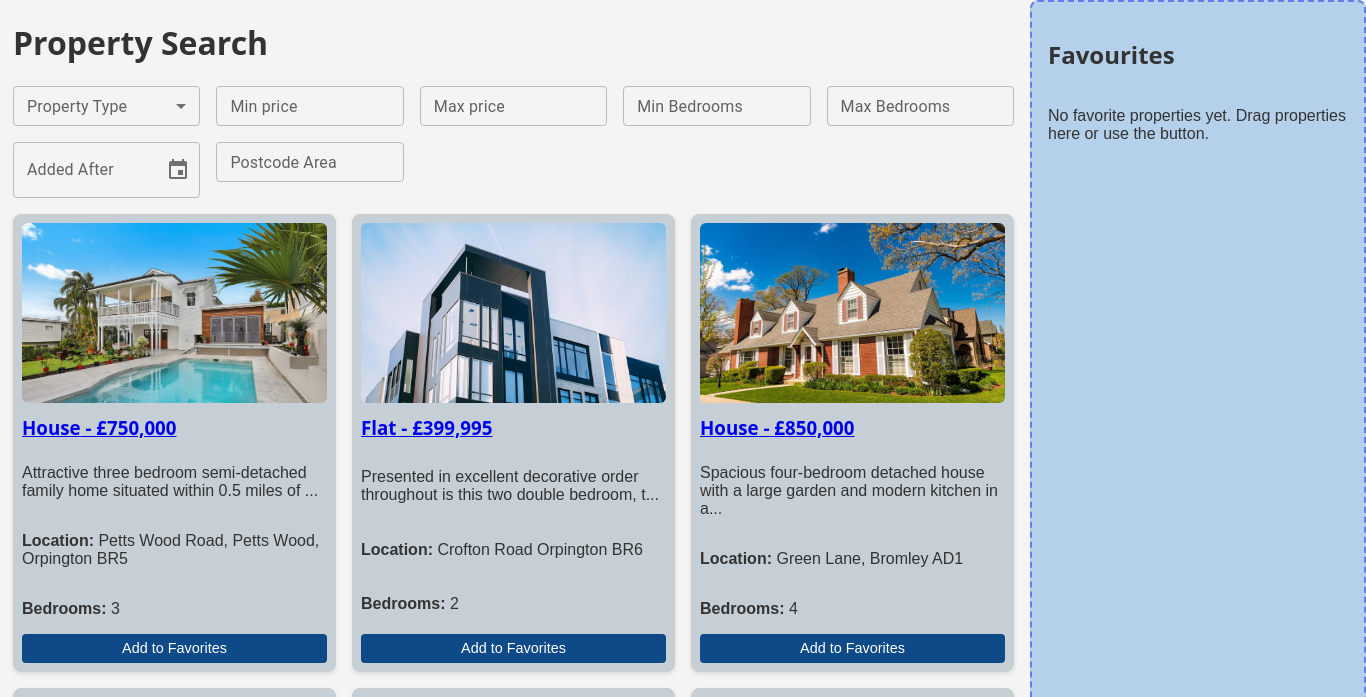
Scenario: removes property from favourites by button click
Step 1. Click the button "Add to Favorites" below "750,000" → (174, 648), box [22,634,327,663]
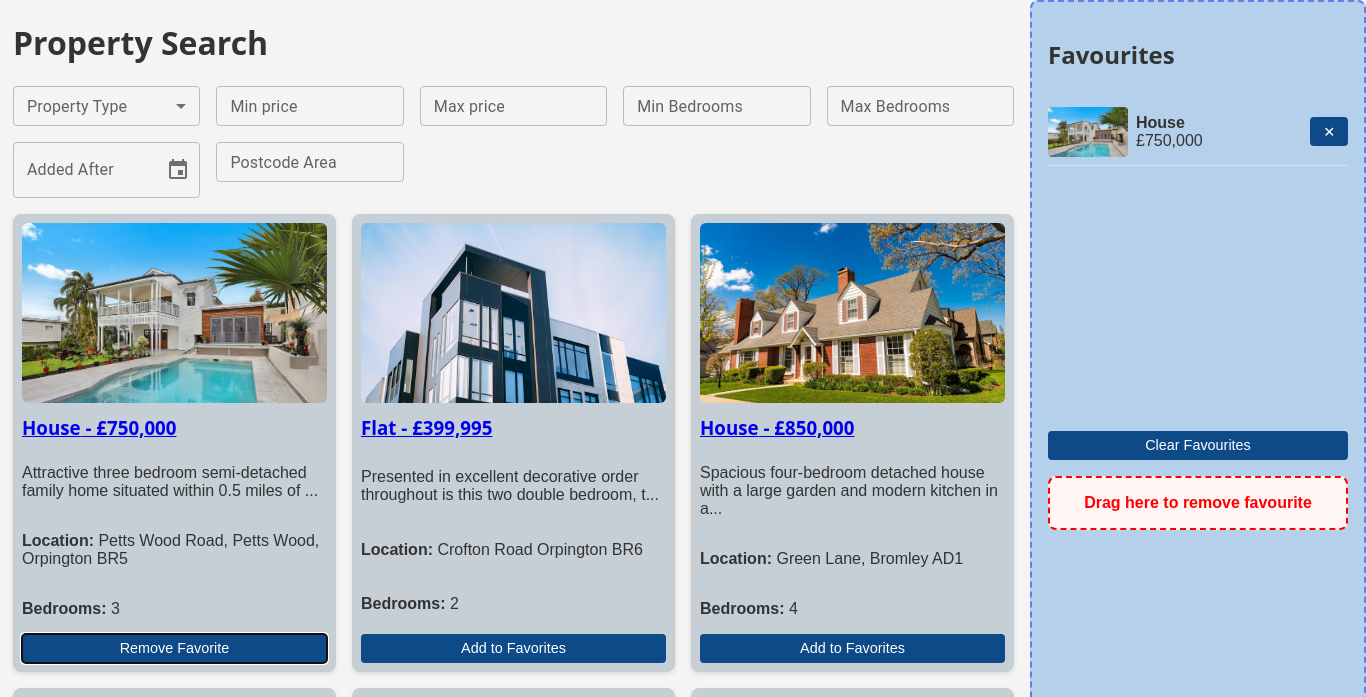
Step 2. Click the button "Remove Favorite" → (174, 648), box [22,634,327,663]
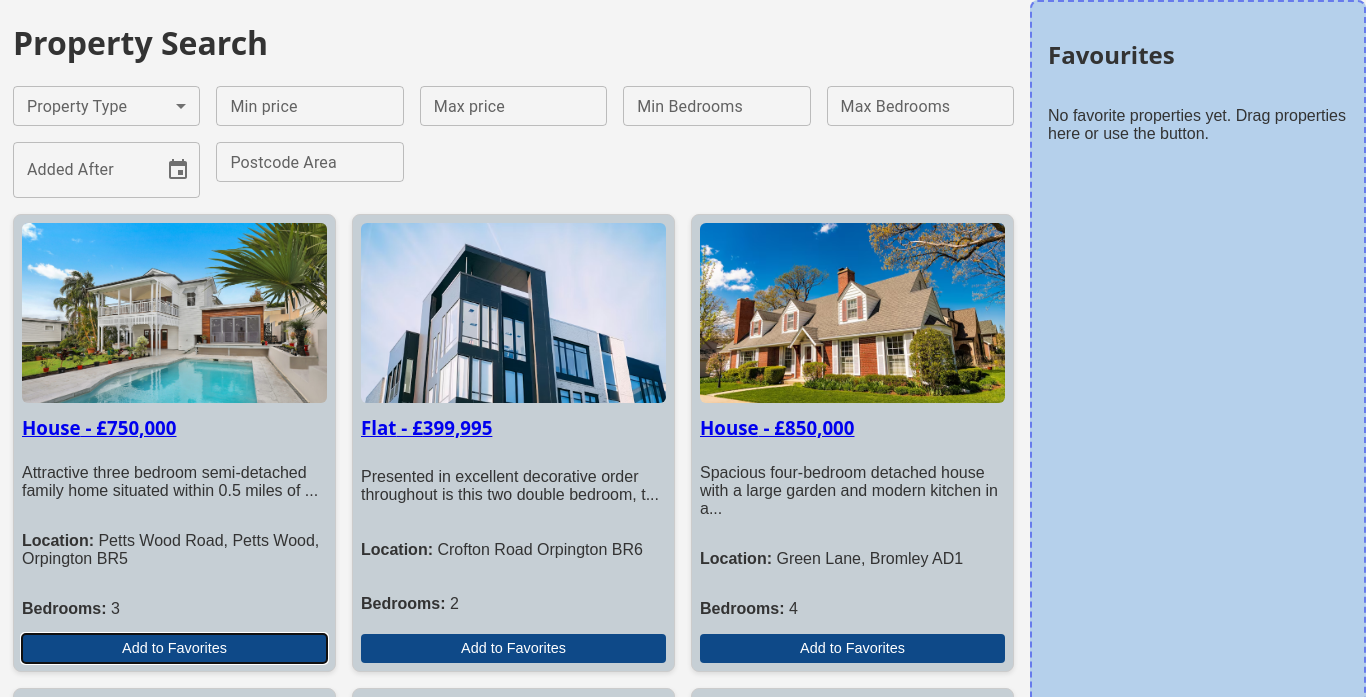
Expected: the text "No favorite properties yet" is shown, [1048,107,1346,142]
